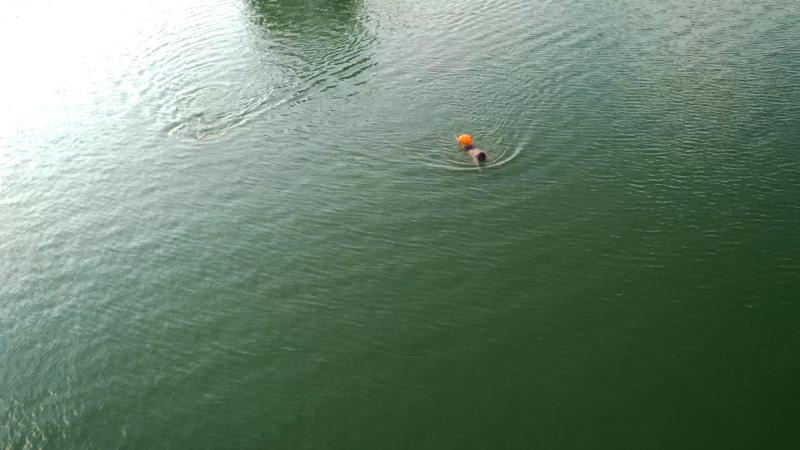swimmers: (457, 133, 500, 174)
